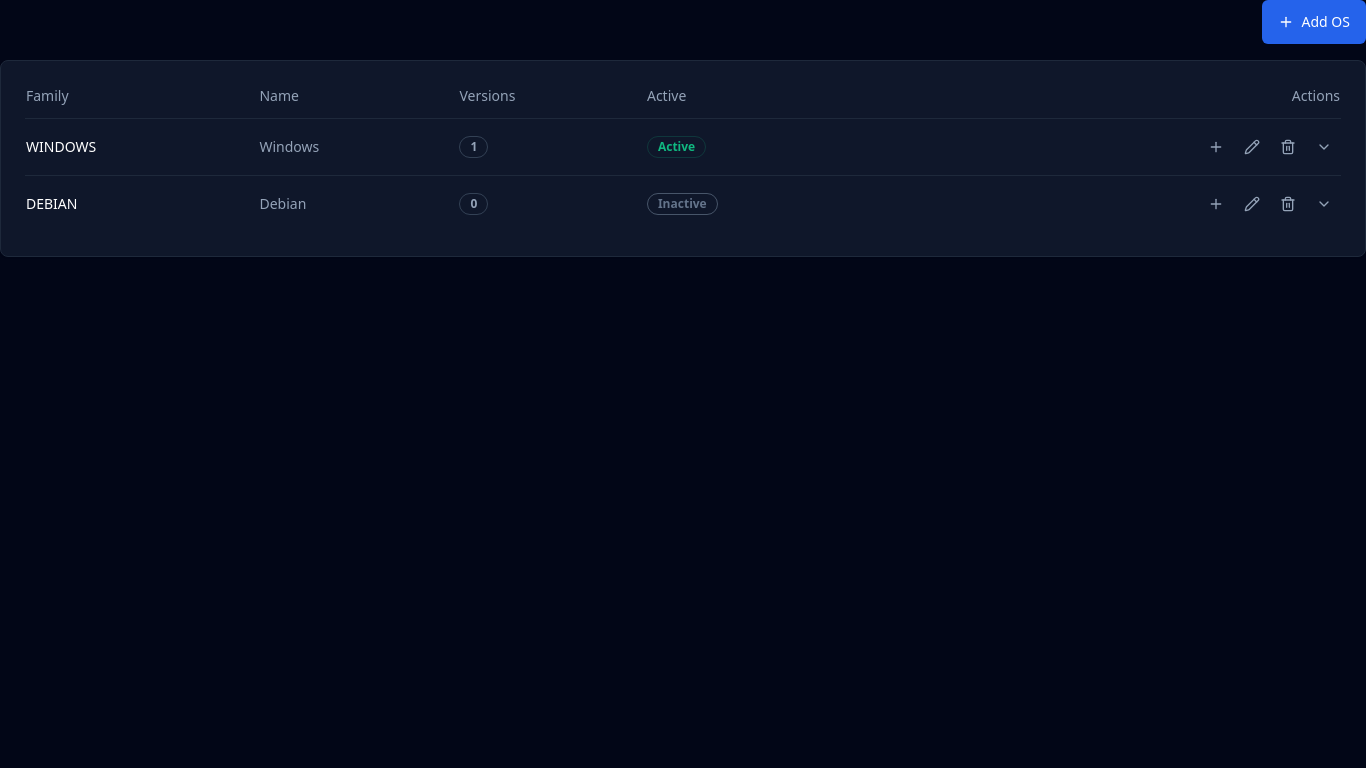
AdminOS › OS Modal › opens edit modal when pencil is clicked
The image size is (1366, 768).
Click the 3rd button: [1252, 147] box [1236, 131, 1268, 163]
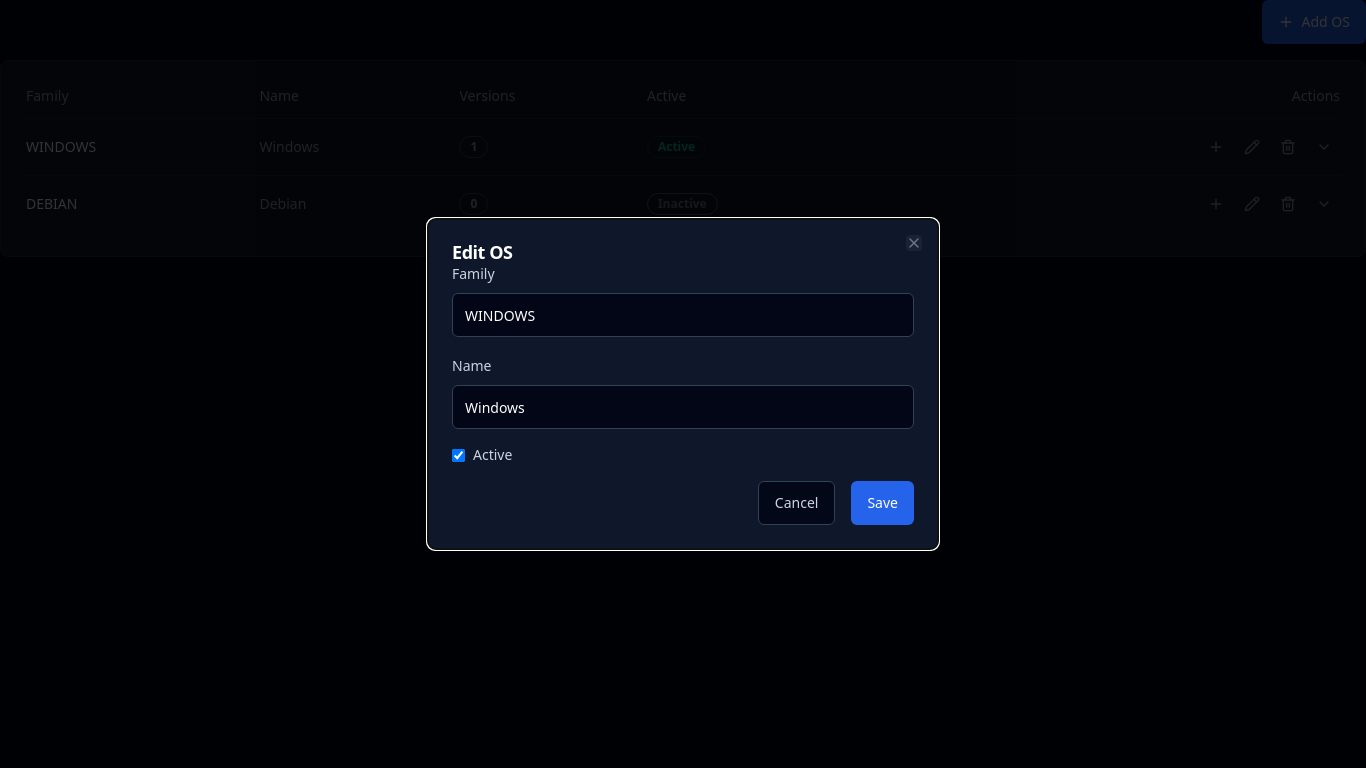
Check: the text "Edit OS" is shown, box [452, 243, 513, 264]
